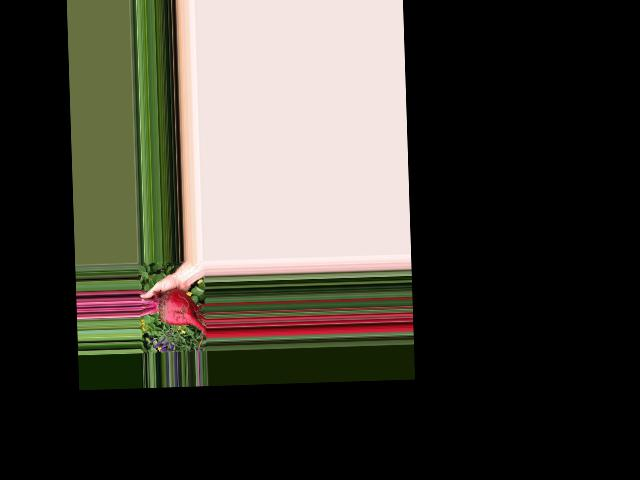beet: (139, 288, 207, 339)
